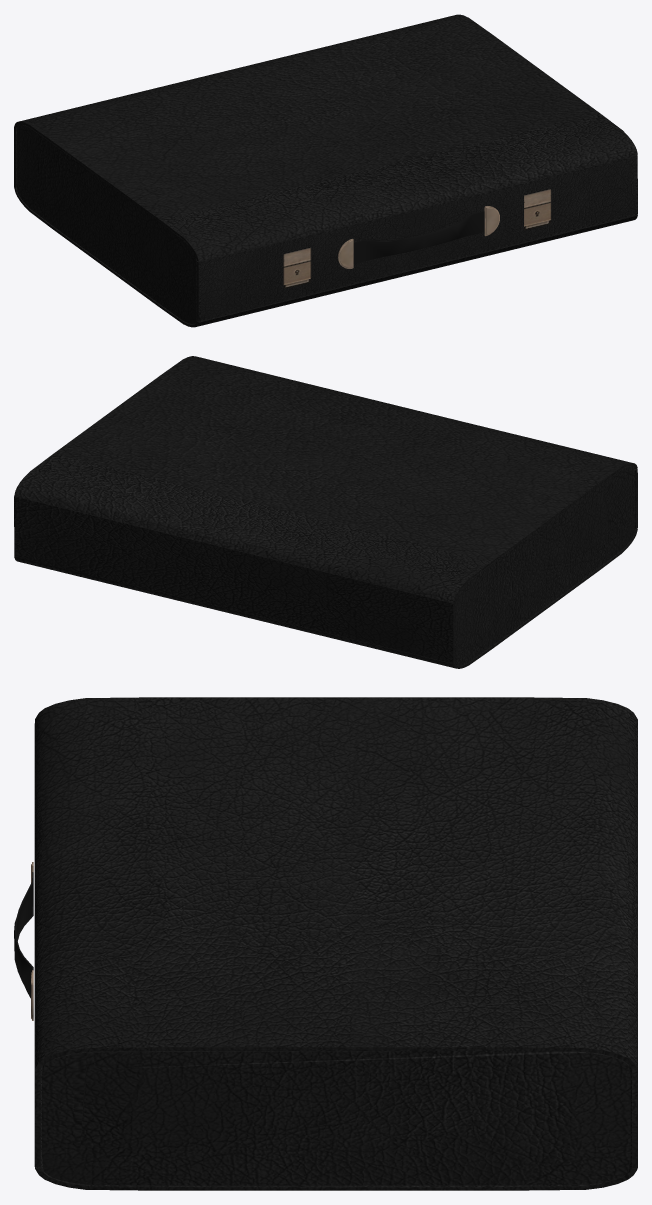
Rendered from Briefcase.FBX.
The picture shows the model from 3 angles, top to bottom: view 1: azimuth 30°, elevation 25°; view 2: azimuth 150°, elevation 25°; view 3: azimuth 270°, elevation 25°; orthographic projection. The views are drawn at different scales.
Visible parts, largest first — view 1: Briefcase; view 2: Briefcase; view 3: Briefcase.
Part boxes in pixels (x1=…): Briefcase: x1=14, y1=14, x2=637, y2=327; Briefcase: x1=14, y1=356, x2=637, y2=668; Briefcase: x1=14, y1=697, x2=637, y2=1190.
Bounding box in the file's own units: 48.32 × 9.23 × 36.38.
1 material, 1 textured.
